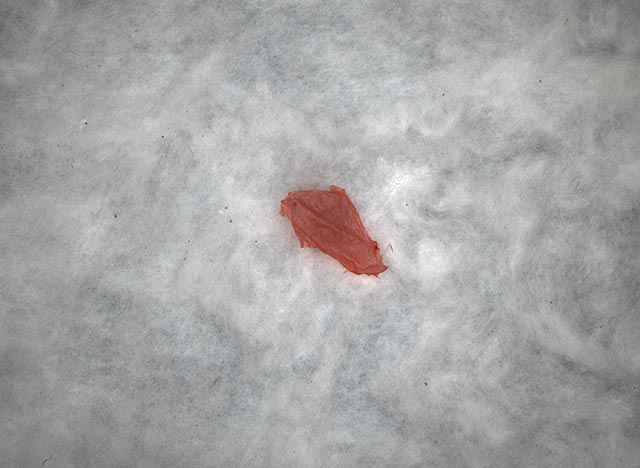plastic film: (279, 184, 390, 277)
